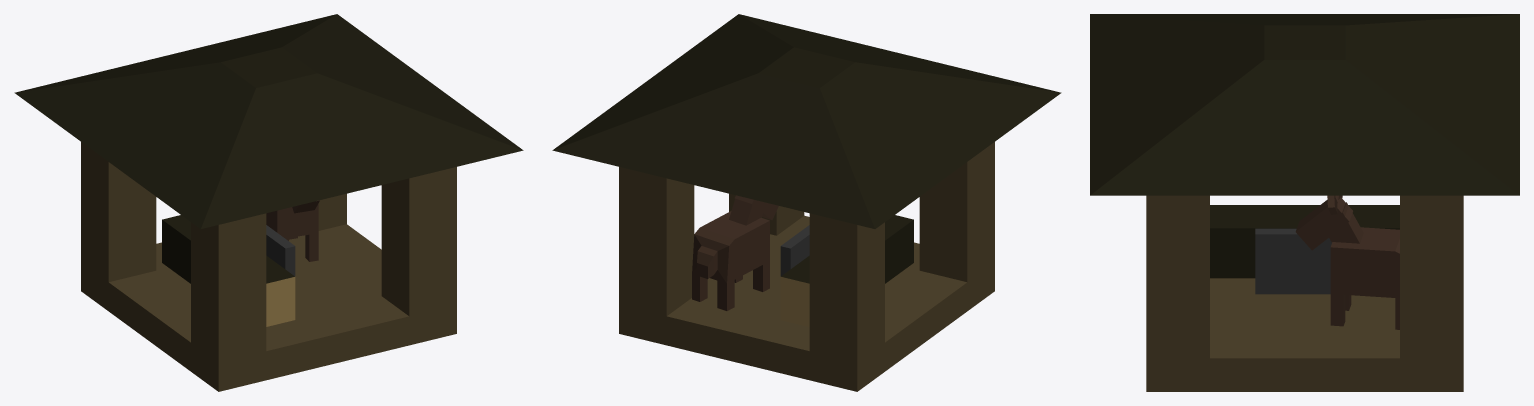
The model's file is Sawmill.fbx.
3 views of the same model, side by side, from view 1: azimuth 30°, elevation 25°; view 2: azimuth 150°, elevation 25°; view 3: azimuth 270°, elevation 25° (orthographic). The views are drawn at different scales.
Parts seen in each view (by area): view 1: Cube.006; view 2: Cube.006; view 3: Cube.006.
Boxes of the visible parts, <box> form: Cube.006: <box>14,14,523,391</box>; Cube.006: <box>552,14,1061,391</box>; Cube.006: <box>1090,14,1519,391</box>.
Size of the model in its own units: 271 by 196 by 271.
